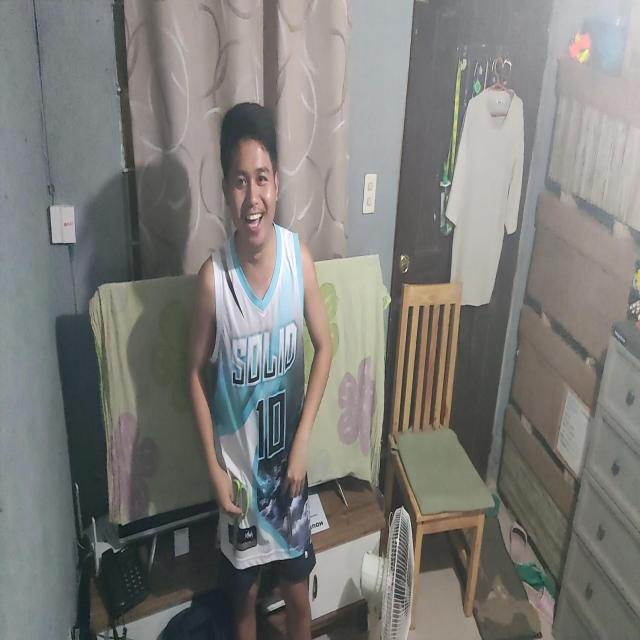scissor: (228, 480, 252, 552)
